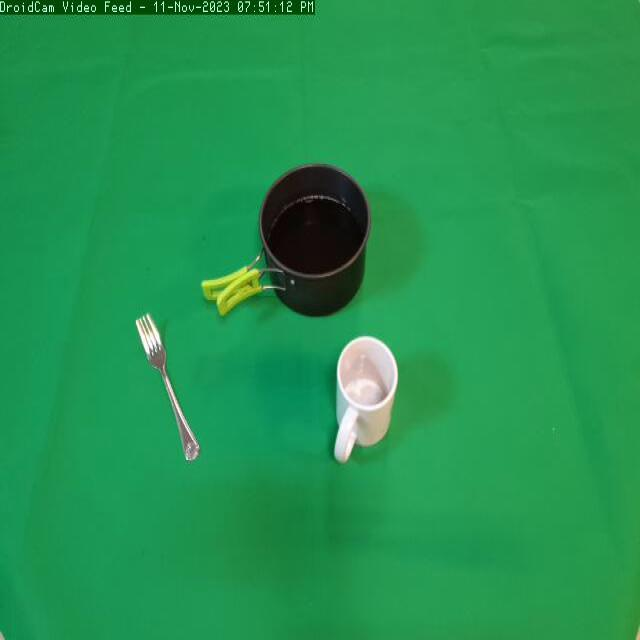cup: (324, 332, 401, 474)
fork: (132, 300, 210, 470)
fullpot: (193, 154, 376, 320)
